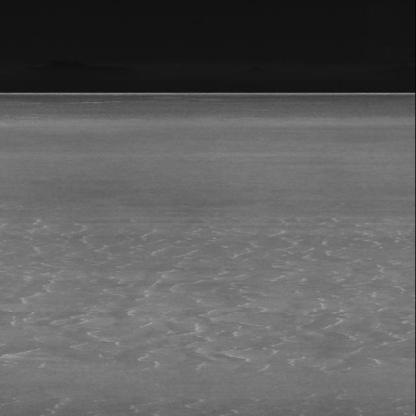silk_spot: (0, 215, 402, 376)
